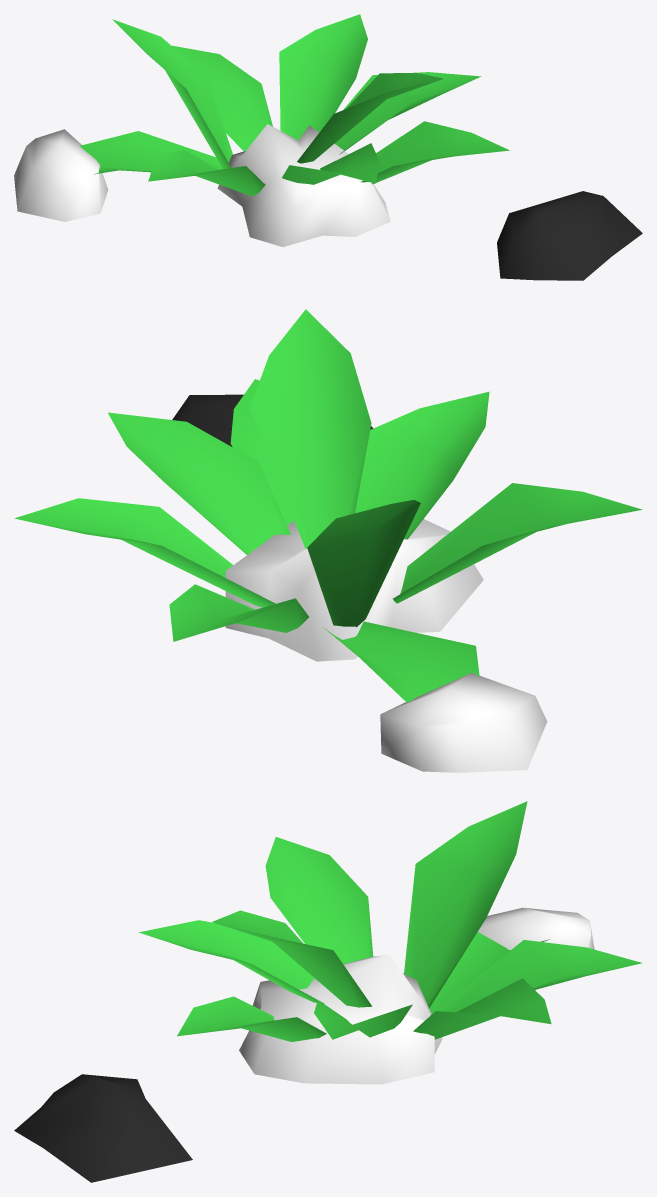
The model's file is pflanze03.FBX.
3 renders of one model, top to bottom at view 1: azimuth 30°, elevation 25°; view 2: azimuth 150°, elevation 25°; view 3: azimuth 270°, elevation 25°, orthographic. The views are drawn at different scales.
Visible parts, largest first — view 1: pflanze03; view 2: pflanze03; view 3: pflanze03.
Part boxes in pixels (x1,y1,x2,y2): pflanze03: [14, 14, 642, 280]; pflanze03: [14, 309, 642, 772]; pflanze03: [14, 801, 642, 1182].
Bounding box in the file's own units: 15.59 × 5.69 × 16.62.
